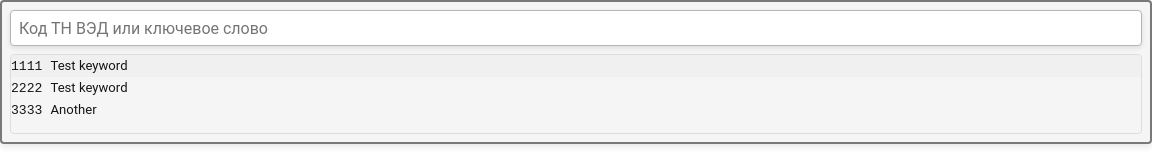
Scenario: FeacnCodeSearchByKeyword (legacy test) › filters rows by search term using shared helper
Type "another" into the field with placeholder "Код ТН ВЭД или ключевое слово" at (576, 28), box [10,10,1142,46]
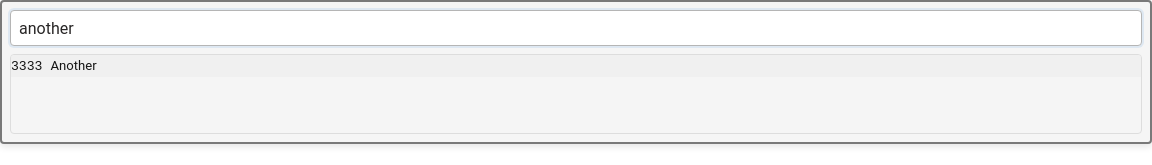
Expected: the element with test id "feacn-keyword-selector-item" shows "Another", [50,58,97,73]
Expected: the number of elements with test id "feacn-keyword-selector-item" is 1, [11,55,1141,77]
